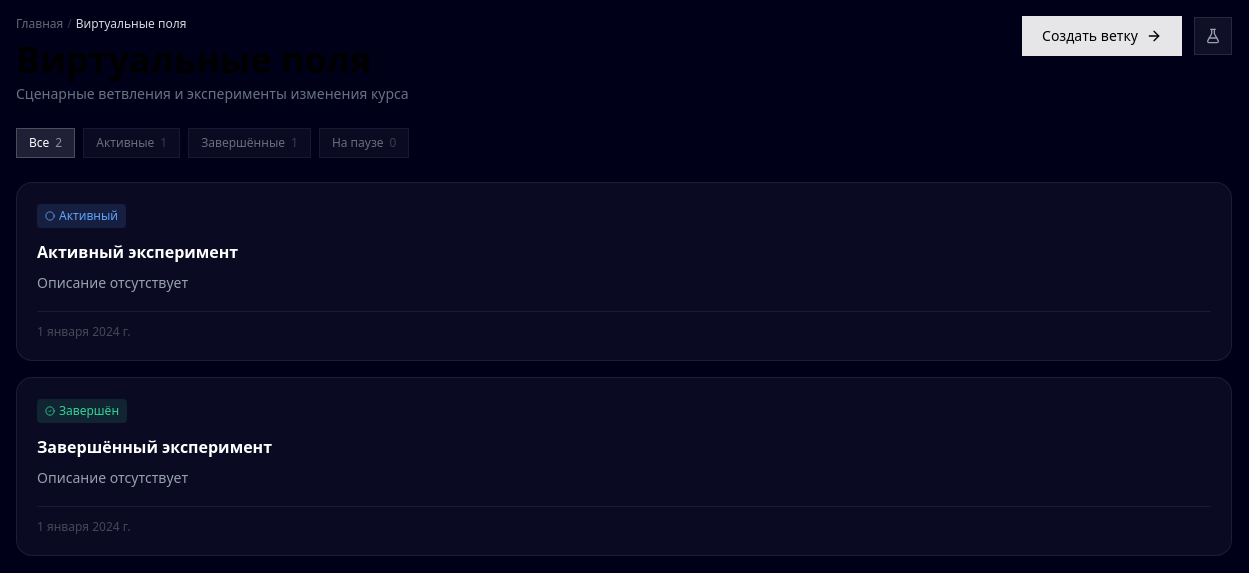
it: ExperimentsPage › фильтрует по статусу active
Expected: the heading "Активный эксперимент" is shown, [37, 241, 238, 263]
Click the button "Активные1". click: point(132, 143)
box: [83, 128, 180, 158]
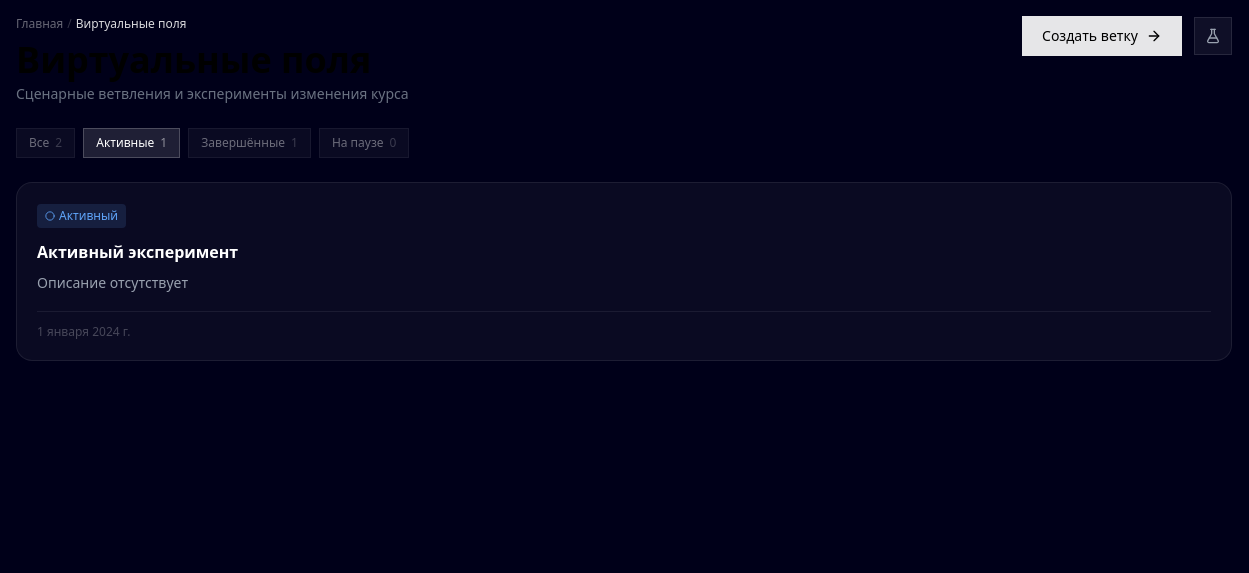
Expected: the heading "Активный эксперимент" is shown, [37, 241, 238, 263]
Now the link "Завершённый эксперимент" is gone
